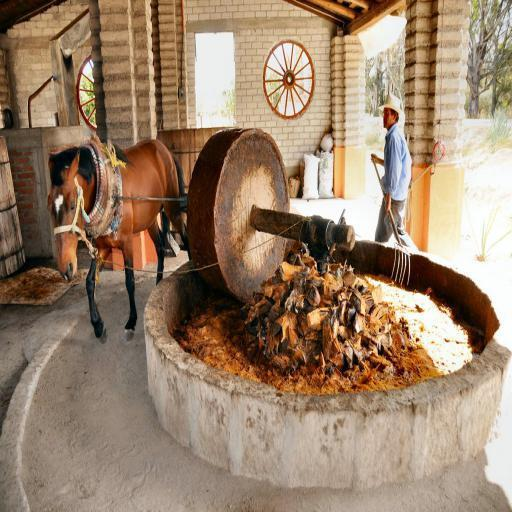horse: (46, 136, 189, 343)
